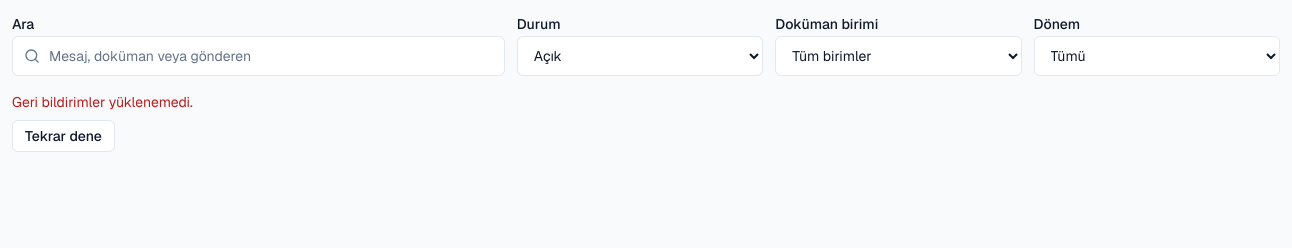
it: FeedbackList › reports a failure and lets the user retry
expect the message shows "Geri bildirimler yüklenemedi.": met, box [12, 93, 193, 111]
Click the button "Tekrar dene" at (63, 136), box [12, 120, 115, 152]
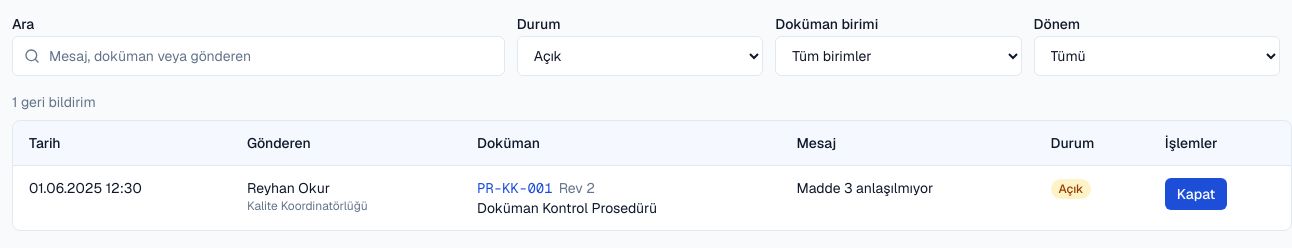
expect the table named "Geri bildirimler" is shown: met, box [13, 121, 1291, 230]
